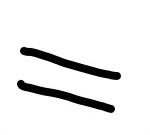eqv: (18, 46, 121, 113)
